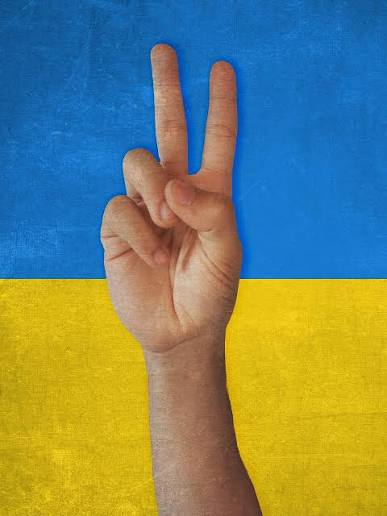peace_sign: (97, 26, 276, 356)
